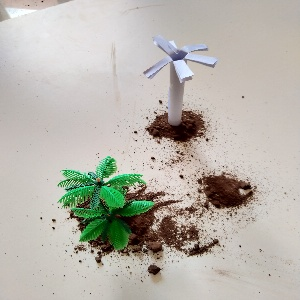plant: (60, 160, 145, 248)
weed: (149, 36, 209, 121)
